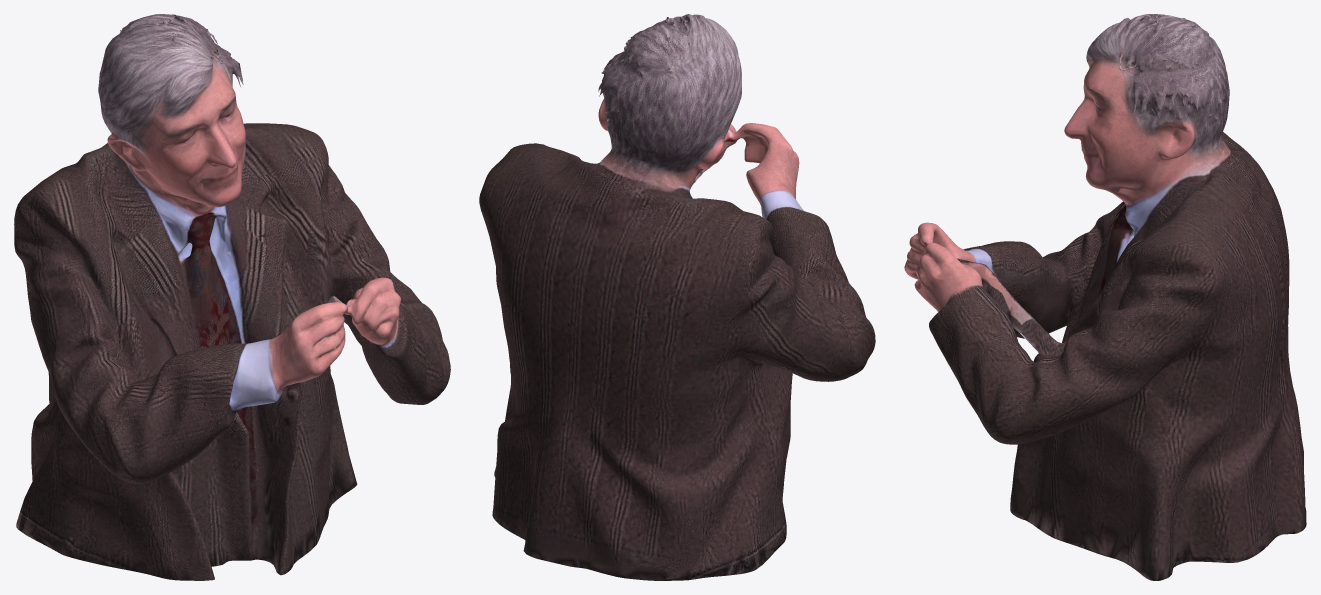
File: john_opt.glb
3 renders of one model, left to right at view 1: azimuth 30°, elevation 25°; view 2: azimuth 150°, elevation 25°; view 3: azimuth 270°, elevation 25°, orthographic. The views are drawn at different scales.
Size of the model in its own units: 1.35 by 1.9 by 1.45.
Materials: 1 (1 with a texture image).
